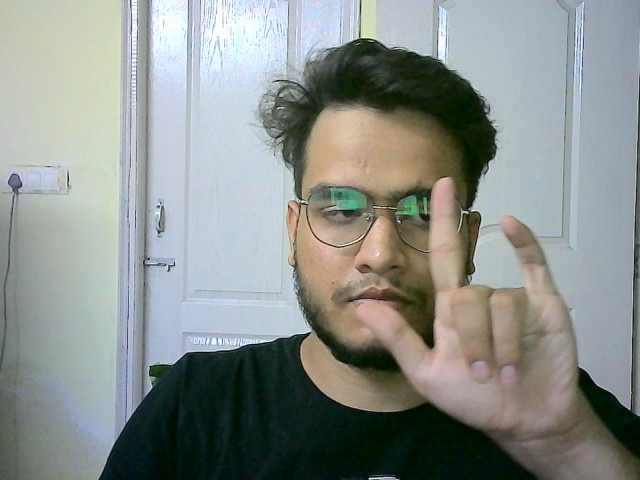I Love You: (366, 170, 588, 444)
